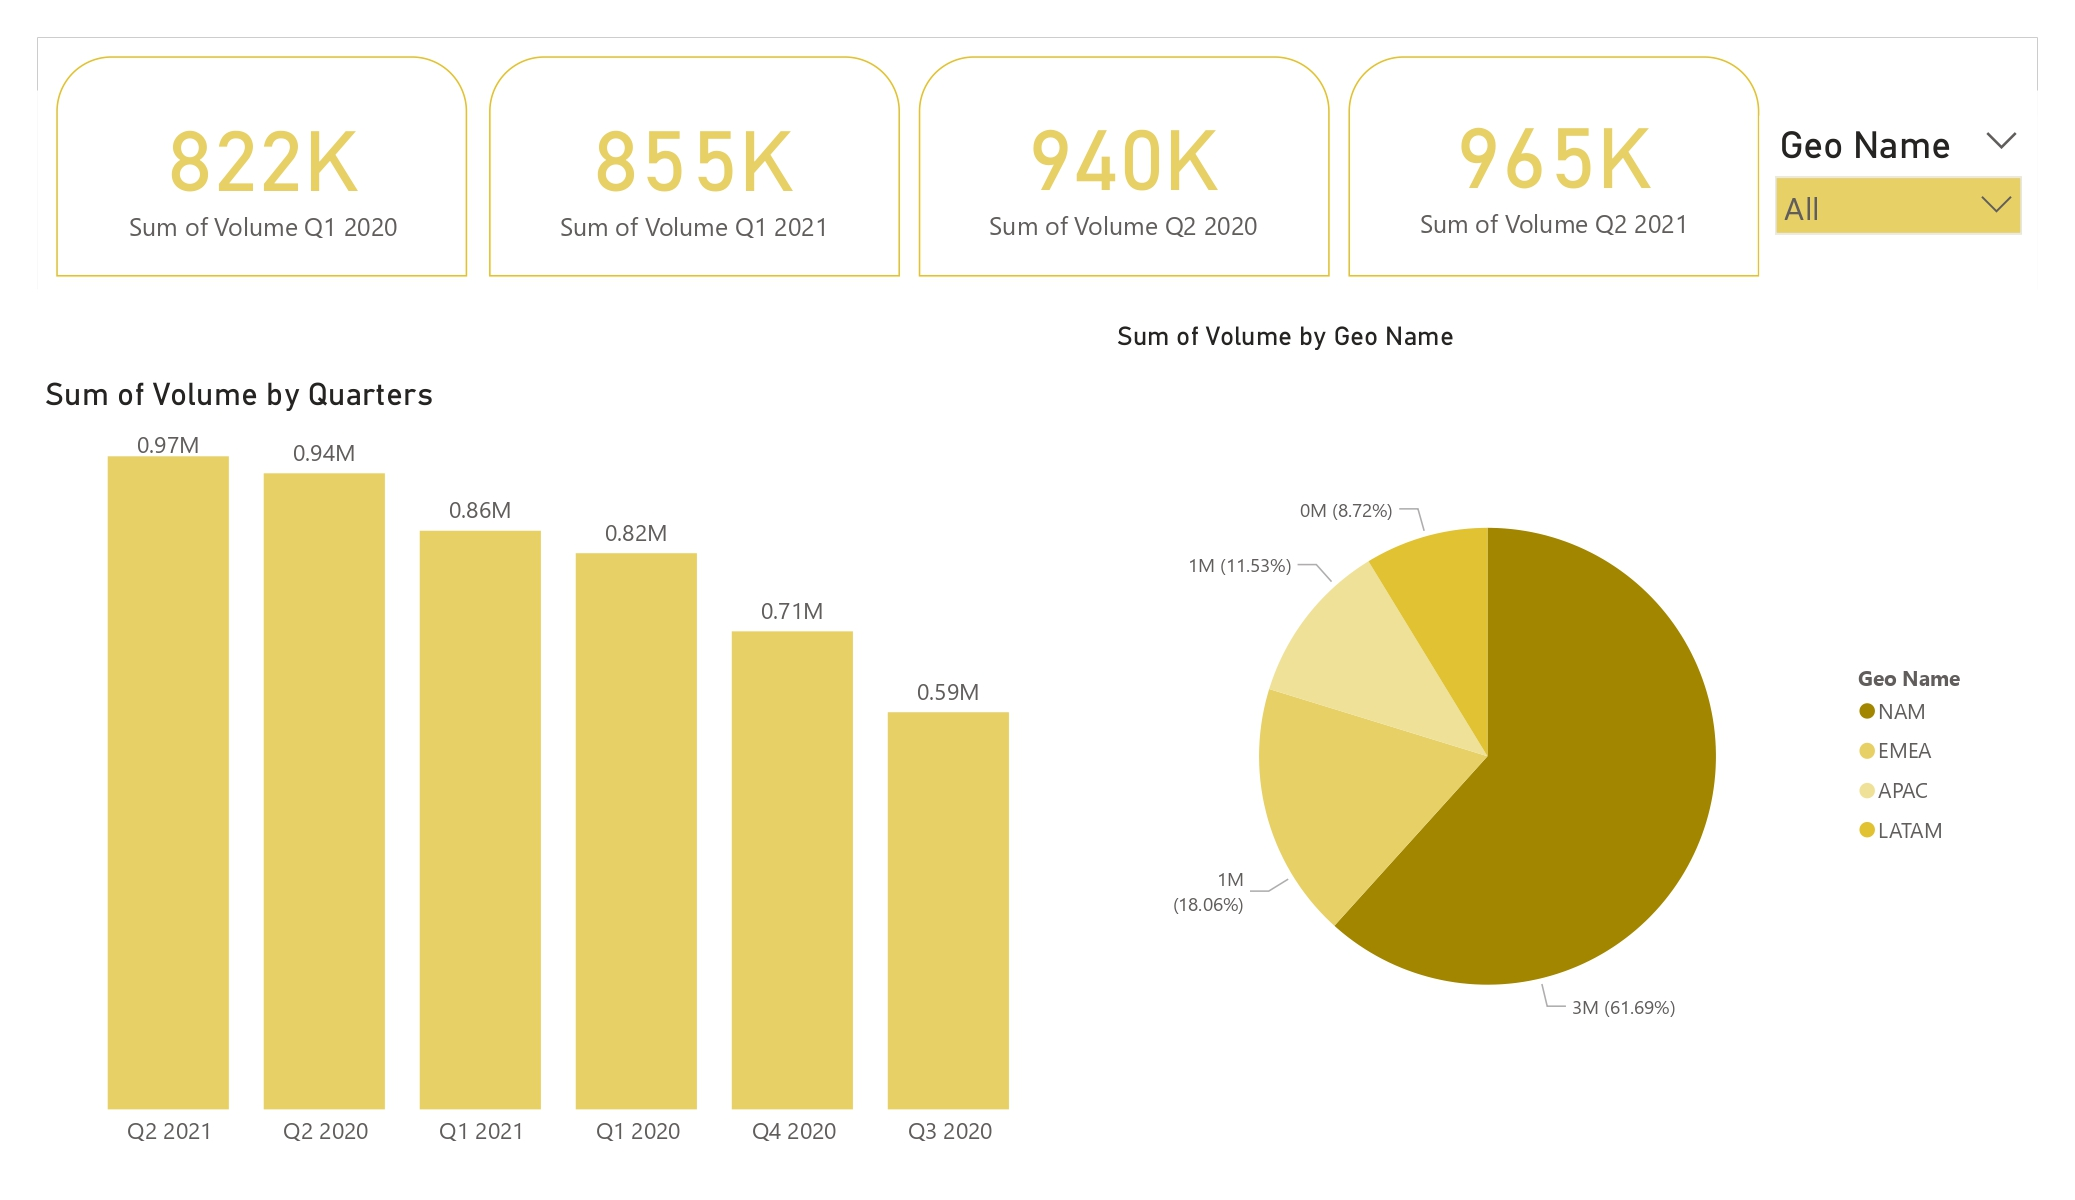

What the dashboard file says about the page in this screenshot:
{"tool":"powerbi","page":{"name":"Page 1","canvas":[1280,720],"ordinal":0},"visuals":[{"type":"columnChart","fields":{"Category":["Volume data.Quarters"],"Y":["Sum(Volume data.Volume)"]},"box":[0,216.4,669.4,503.3],"z":0},{"type":"shape","box":[11.7,11.7,263.4,140.9],"z":1000},{"type":"card","fields":{"Values":["Sum(Volume data.Volume)"]},"box":[47,21.8,194.6,120.8],"z":2000},{"type":"shape","box":[288.5,11.7,263.4,140.9],"z":3000},{"type":"card","fields":{"Values":["Sum(Volume data.Volume)"]},"box":[310.4,26.8,219.8,110.7],"z":4000},{"type":"shape","box":[563.7,11.7,263.4,140.9],"z":5000},{"type":"card","fields":{"Values":["Sum(Volume data.Volume)"]},"box":[580.4,25.2,229.8,114.1],"z":6000},{"type":"shape","box":[838.8,11.7,263.4,140.9],"z":7000},{"type":"card","fields":{"Values":["Sum(Volume data.Volume)"]},"box":[855.6,23.5,229.8,114.1],"z":8000},{"type":"slicer","fields":{"Values":["Volume data.Geo Name"]},"box":[1102.2,50.3,177.8,130.9],"z":9000},{"type":"pieChart","fields":{"Category":["Volume data.Geo Name"],"Y":["Sum(Volume data.Volume)"]},"box":[686.1,181.2,568.7,538.5],"z":10000}]}

Visuals, with their boxes on the page's 1280x720 design canvas (x1, y1, x2, y2). These are canvas units, not pixel positions in the 2075x1200 screenshot, which may show the page scaled, cropped or inside an application window:
columnChart - Volume data.Quarters x Sum(Volume data.Volume): 0/216/669/720
shape: 12/12/275/153
card - Sum(Volume data.Volume): 47/22/242/143
shape: 288/12/552/153
card - Sum(Volume data.Volume): 310/27/530/138
shape: 564/12/827/153
card - Sum(Volume data.Volume): 580/25/810/139
shape: 839/12/1102/153
card - Sum(Volume data.Volume): 856/24/1085/138
slicer - Volume data.Geo Name: 1102/50/1280/181
pieChart - Volume data.Geo Name x Sum(Volume data.Volume): 686/181/1255/720
